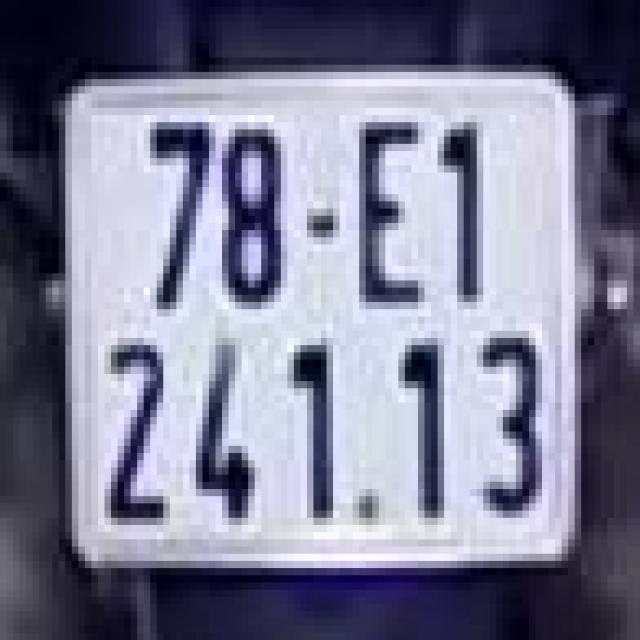1: (421, 94, 513, 302), (274, 324, 353, 546), (385, 317, 457, 532)
2: (98, 331, 170, 532)
3: (470, 317, 562, 532)
4: (180, 327, 264, 543)
7: (134, 100, 212, 324)
8: (216, 97, 300, 320)
E: (346, 94, 431, 316)
